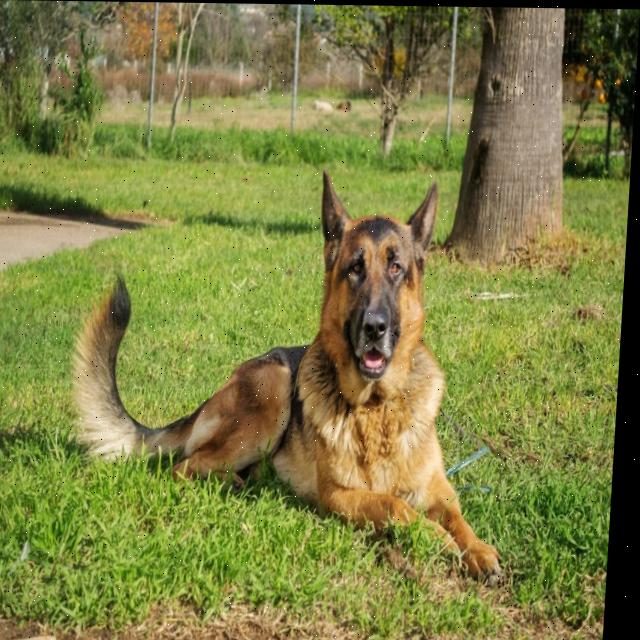GERMAN_SHEPHERD: (38, 138, 536, 588)
